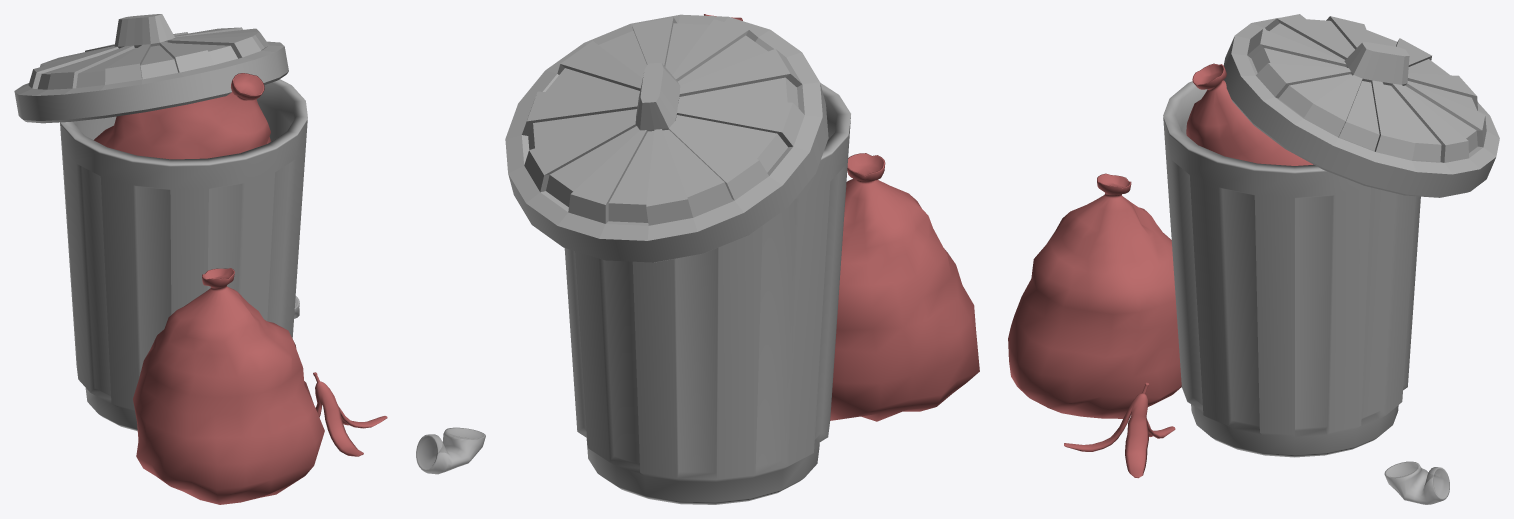
Rendered from Overflowing Rubbish Bin Low Poly.fbx.
3 views of the same model, side by side, from view 1: azimuth 30°, elevation 25°; view 2: azimuth 150°, elevation 25°; view 3: azimuth 270°, elevation 25° (orthographic). The views are drawn at different scales.
Parts seen in each view (by area): view 1: RubbishBinOverflowing2; view 2: RubbishBinOverflowing2; view 3: RubbishBinOverflowing2.
Part boxes in pixels (bbox=[...]): RubbishBinOverflowing2: bbox=[14, 14, 387, 504]; RubbishBinOverflowing2: bbox=[416, 14, 979, 504]; RubbishBinOverflowing2: bbox=[1008, 14, 1499, 504].
Size of the model in its own units: 102 by 116 by 136.
